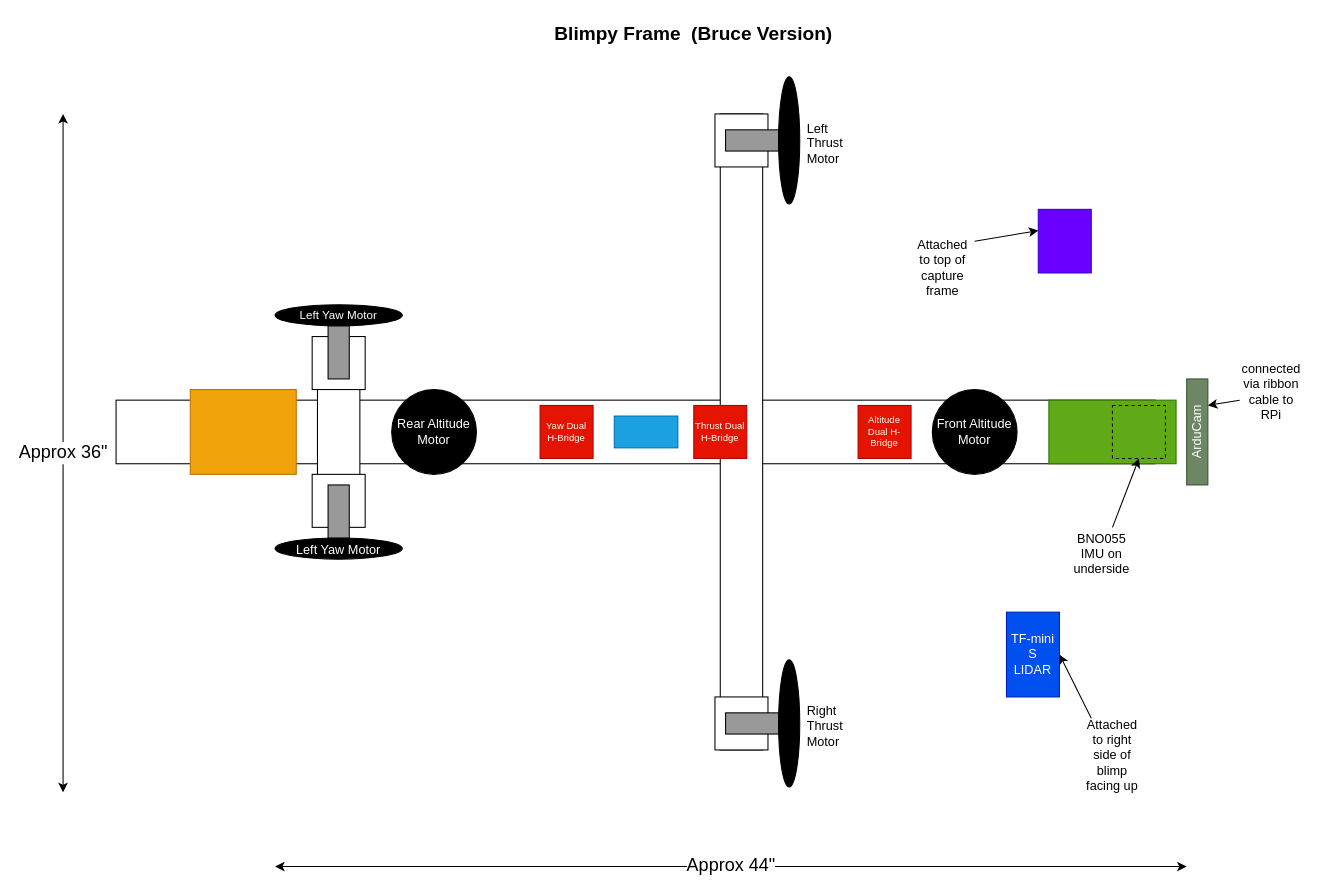
Some shapes in this 1321 by 895 pixel diagram are drawn without their labels. The shapes that lost their labels are listed below. From the top down, each one's box as (x1, y1, x2, y2) in pixels, then its label:
(1037, 208, 1091, 273): Capture Door Servo
(189, 388, 296, 474): Battery Box
(613, 415, 678, 448): DC to DC Converter
(1048, 399, 1176, 464): Raspberry Pi Zero 2
